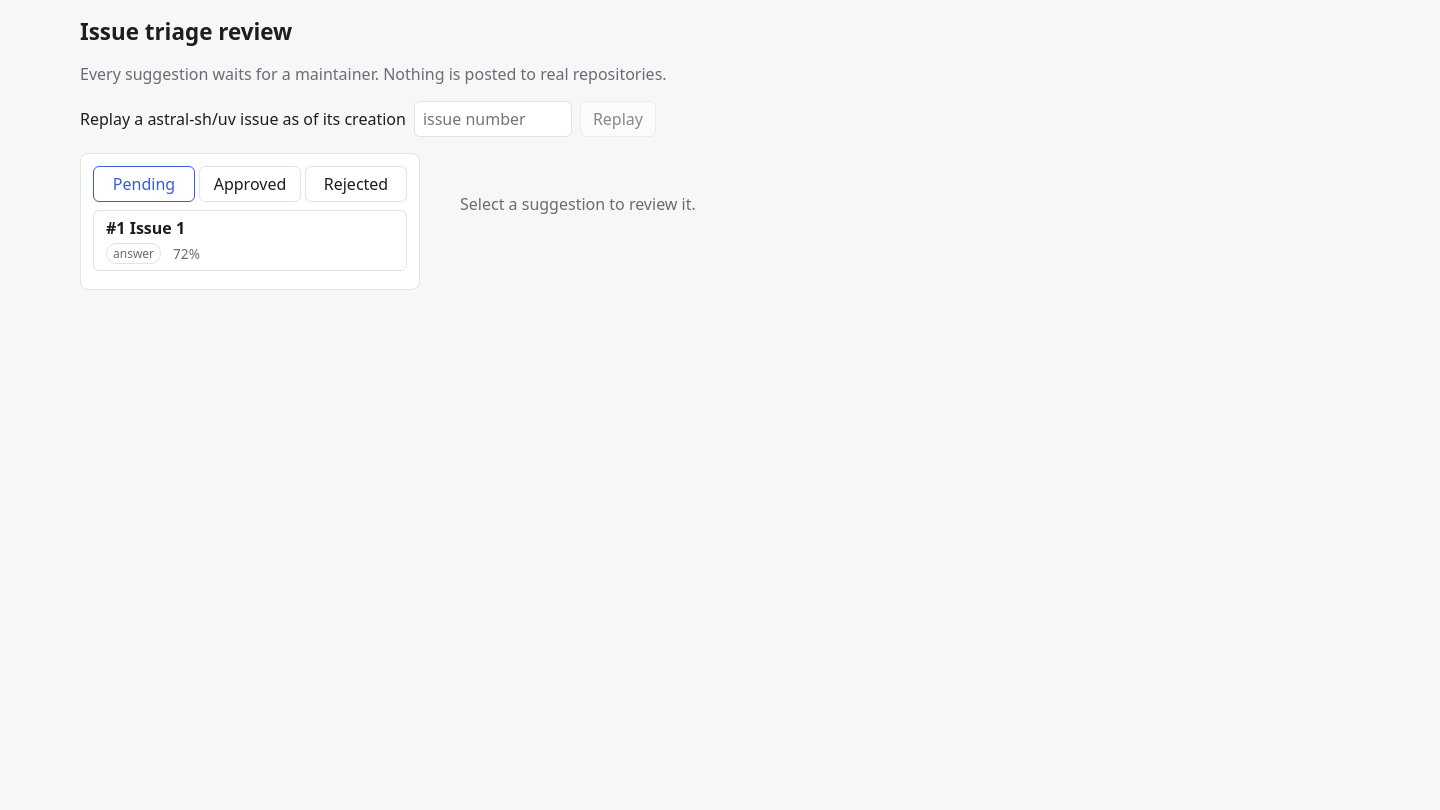
Test: run detail and review actions › approves the proposal as is
Click the button "#1 Issue 1 answer 72%". click: x=157, y=228
box: [93,210,407,271]
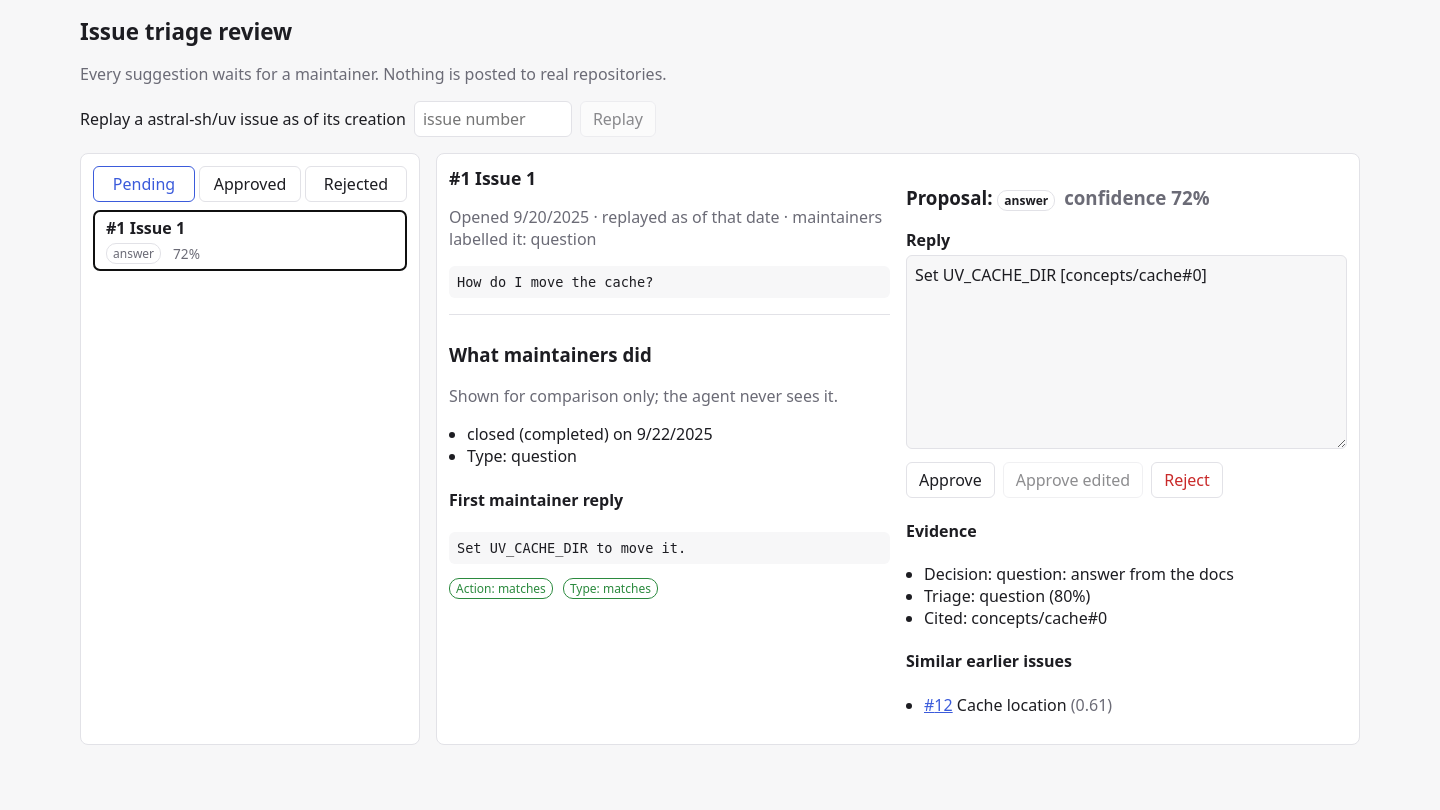
Result: the heading "#1 Issue 1" is shown at [449,166,536,190]
Click the button "Approve". click: x=950, y=480
box: [906,462,995,498]
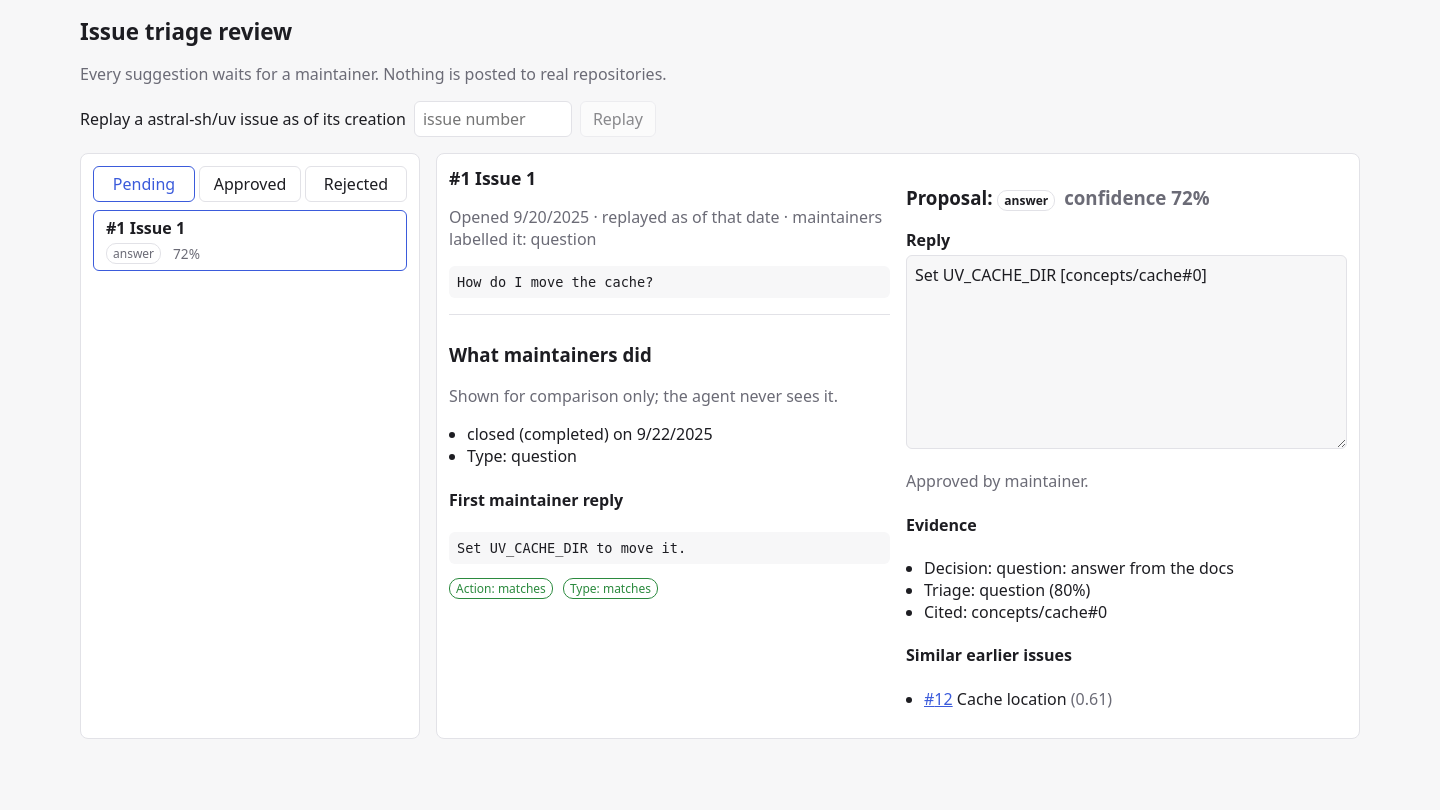
Result: the text "Approved by maintainer." is shown at [906,470,1089,492]
